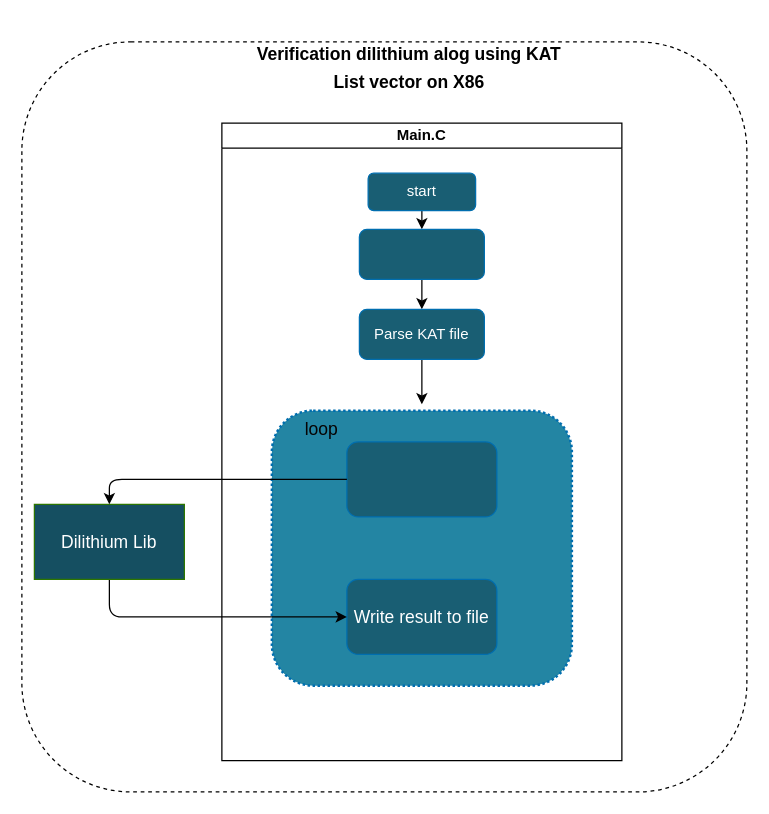
This 769x814 diagram has some shape labels left out. Here are the shapes that lost their labels. From the top down, the centre of each, then its label:
At point 421,253: "Open KAT file".
At point 421,479: "fetch each vector".
